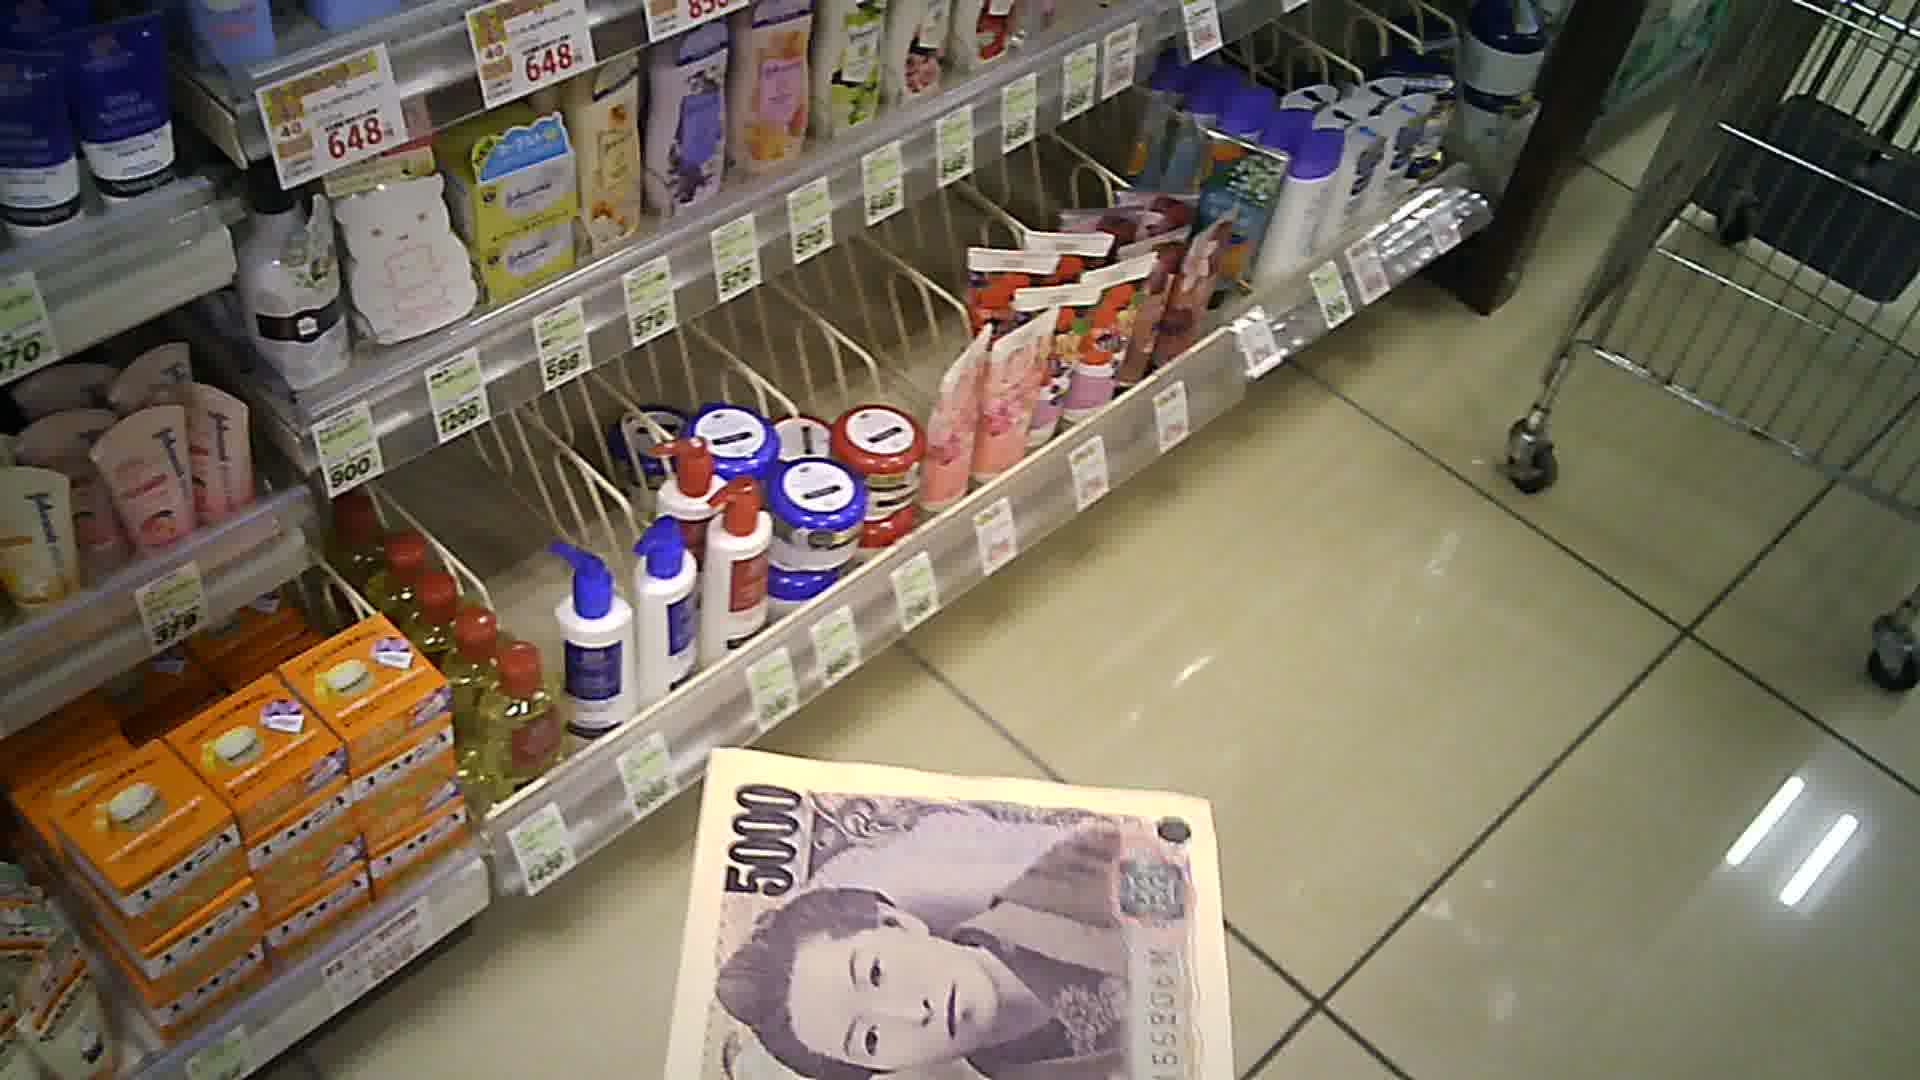5,000 Yen: (666, 746, 1232, 1069)
